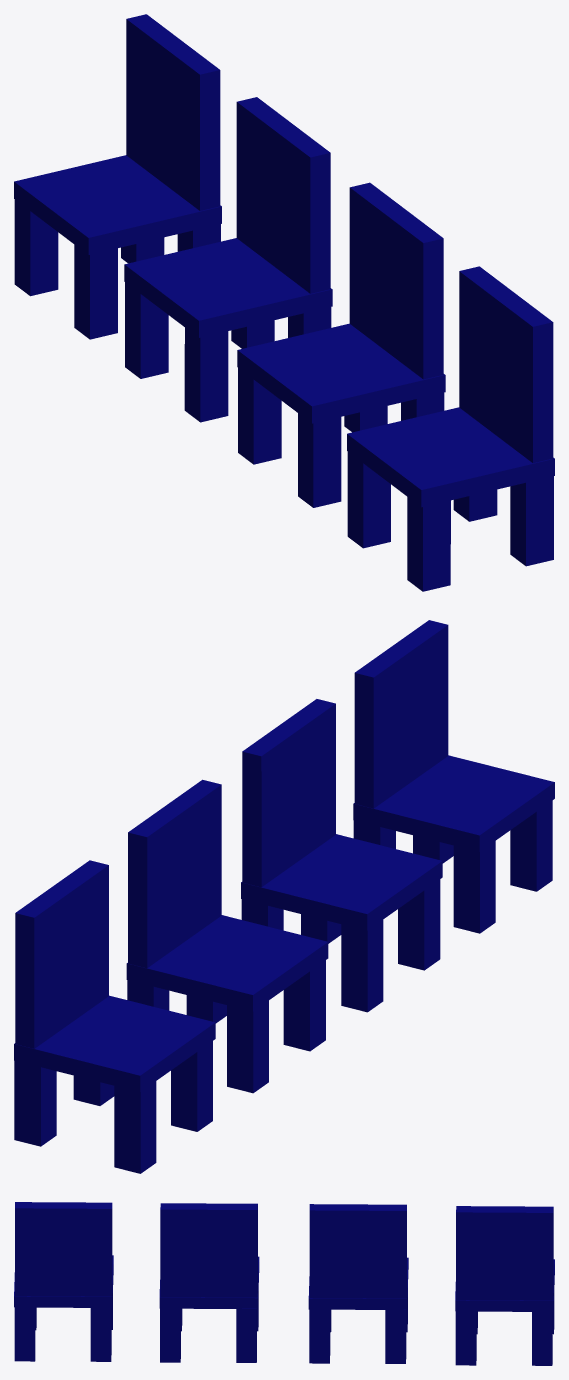
Rendered from seatrow_blue.glb.
3 views of the same model, one above another, from view 1: azimuth 30°, elevation 25°; view 2: azimuth 150°, elevation 25°; view 3: azimuth 270°, elevation 25° (orthographic). The views are drawn at different scales.
Visible parts, largest first — view 1: 4chair; view 2: 4chair; view 3: 4chair.
Part boxes in pixels (x1,y1,x2,y2): 4chair: (14, 14, 554, 591); 4chair: (14, 620, 554, 1173); 4chair: (14, 1202, 554, 1365).
Size of the model in its own units: 0.7207 by 1.14 by 3.62.
